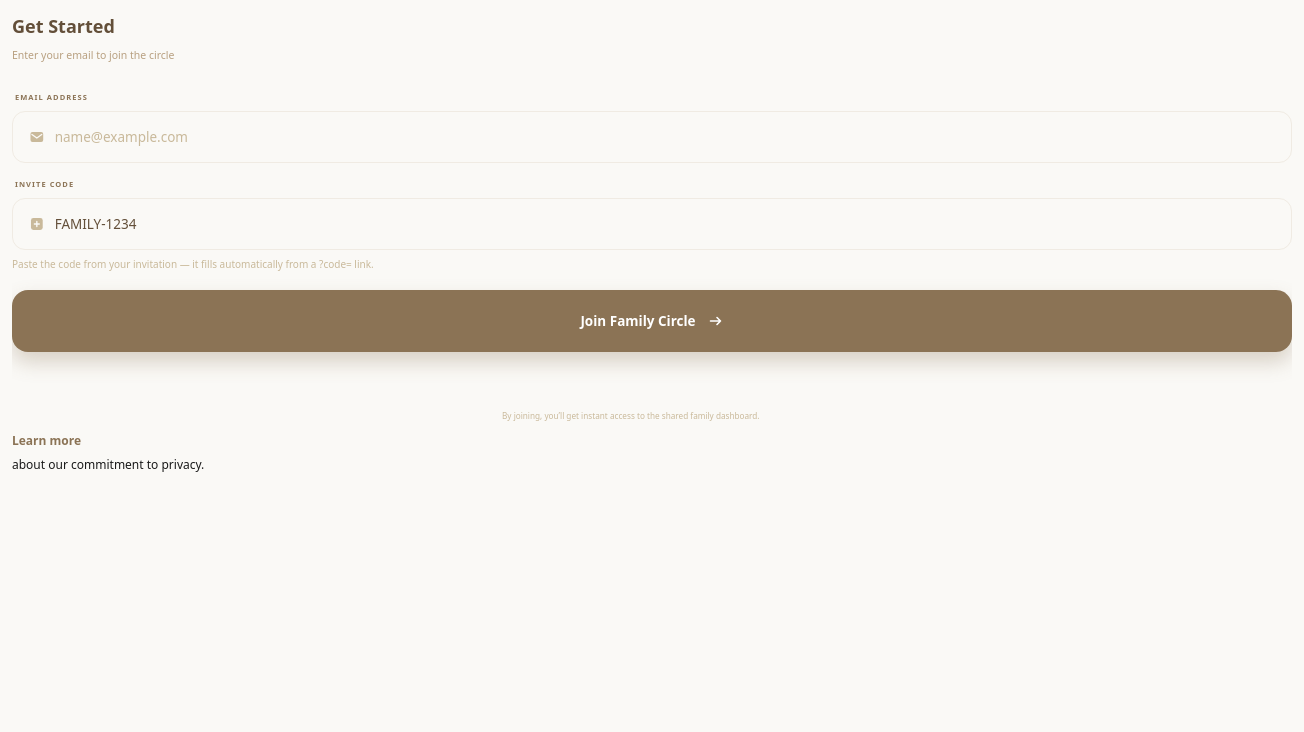
Test case: JoinFamilyForm › shows the already-a-member notice when the service reports a duplicate
Step 1. Type "ada@example.com" into the field labelled "EMAIL ADDRESS" → {"x": 665, "y": 137}, box [55,112,1275,162]
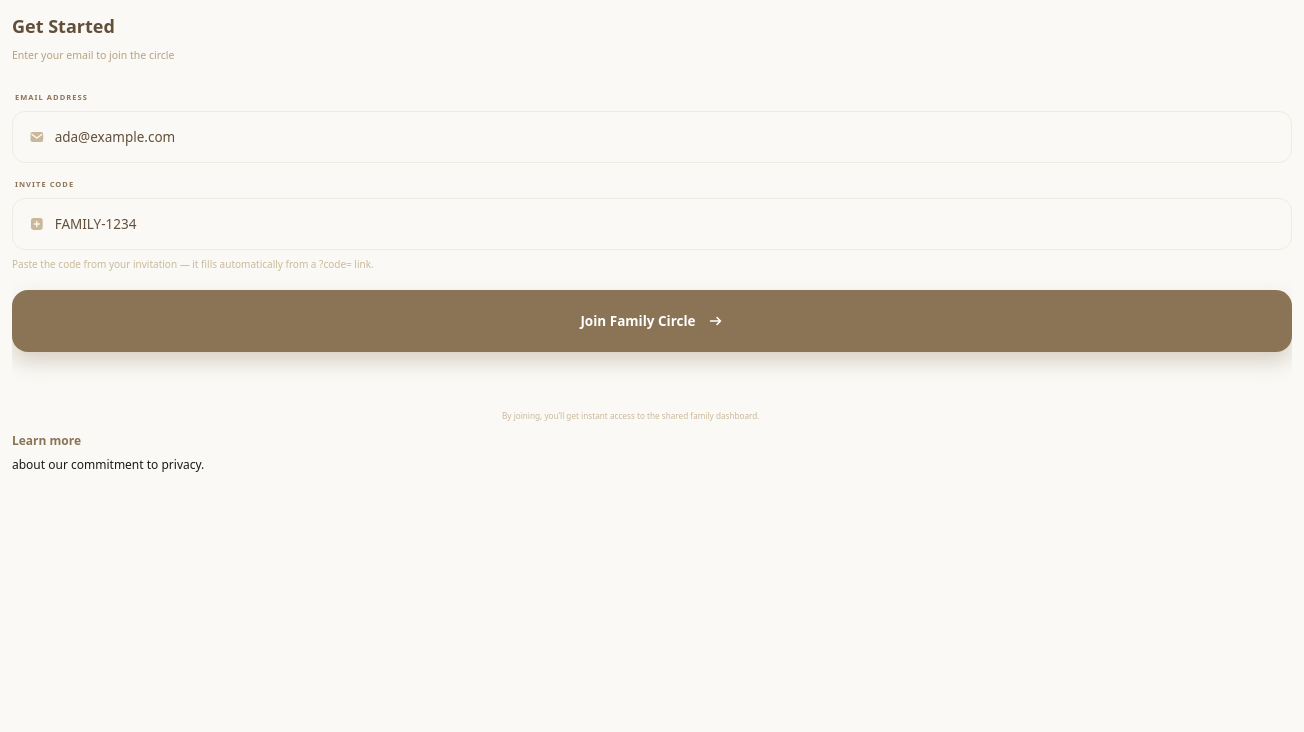
Step 2. Click the button "Join Family Circle" → {"x": 652, "y": 321}, box [12,290,1292,352]
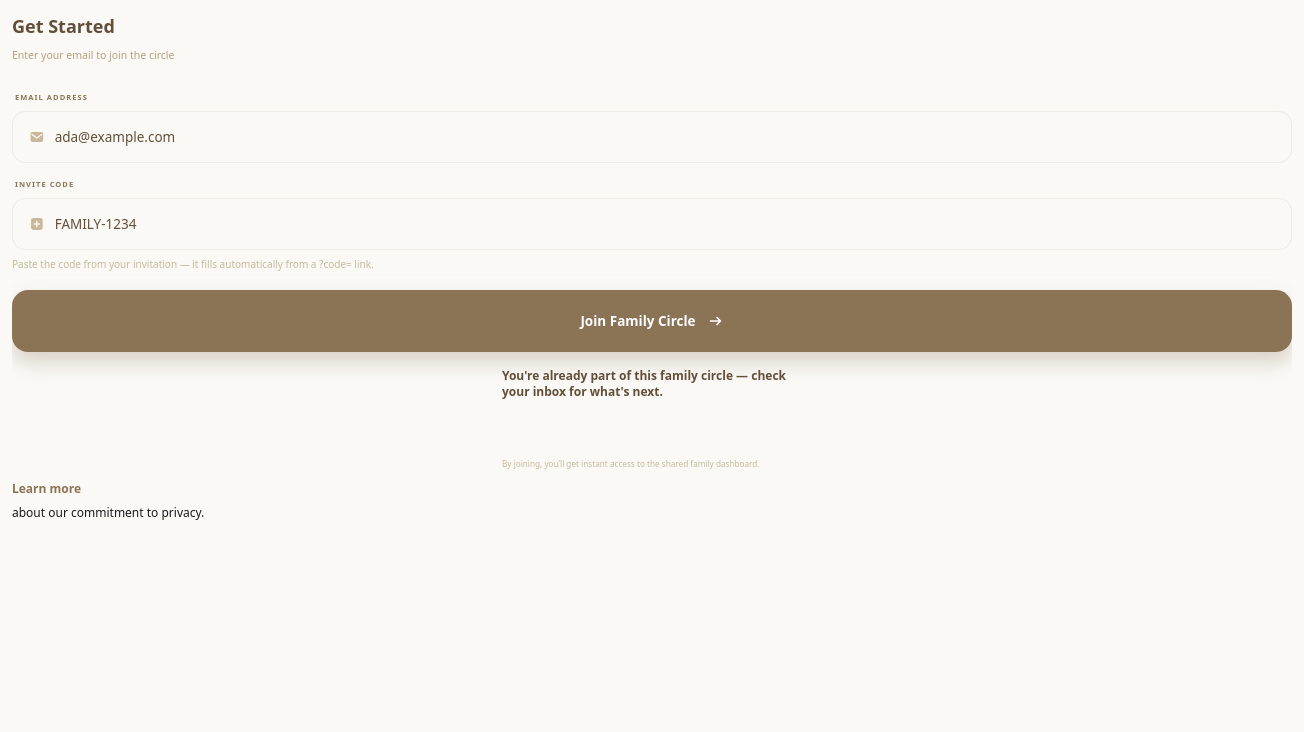
Expected: the message shows "already part", [502,367,786,400]
